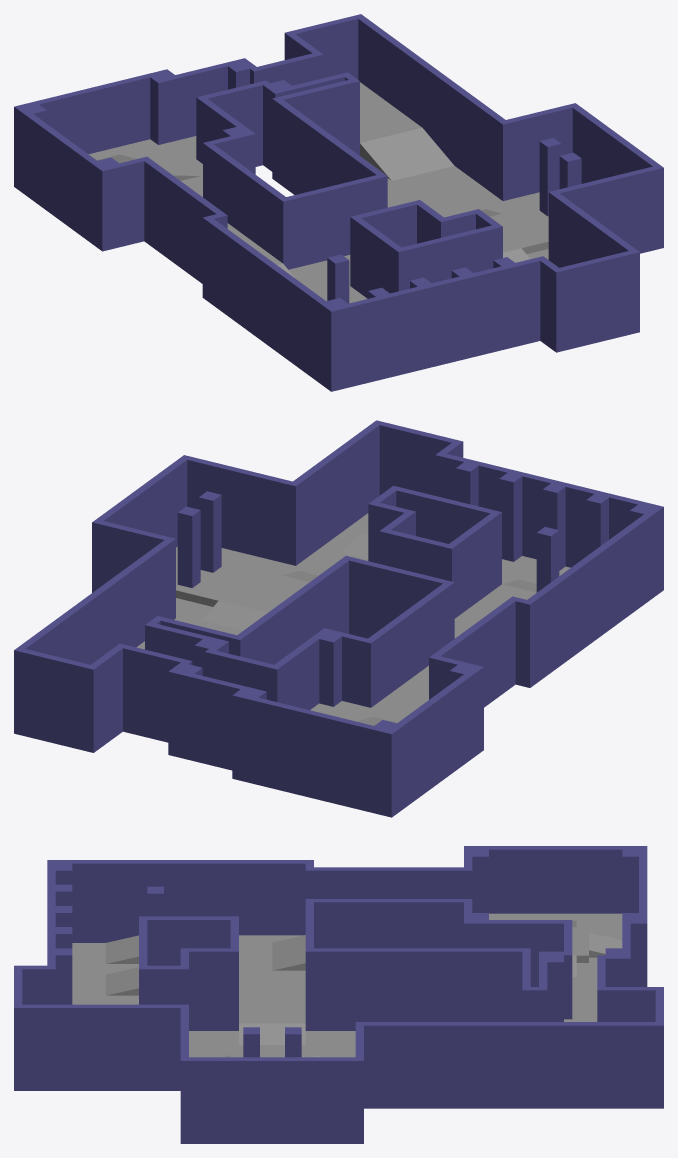
File: Arena01_LD.FBX
3 renders of one model, top to bottom at view 1: azimuth 30°, elevation 25°; view 2: azimuth 150°, elevation 25°; view 3: azimuth 270°, elevation 25°, orthographic. The views are drawn at different scales.
Visible parts, largest first — view 1: Wall_LD_Box (×36), Ground_LD_Box (×5), Ground_LD_Mesh; view 2: Wall_LD_Box (×39), Ground_LD_Box (×8), Ground_LD_Mesh; view 3: Wall_LD_Box (×34), Ground_LD_Box (×7), Ground_LD_Mesh (×5).
Boxes of the visible parts, <box> form: Wall_LD_Box (×36): <box>14,14,663,391</box>; Ground_LD_Box (×5): <box>89,82,548,303</box>; Ground_LD_Mesh: <box>360,128,454,180</box>; Wall_LD_Box (×39): <box>14,420,663,817</box>; Ground_LD_Box (×8): <box>136,513,570,722</box>; Ground_LD_Mesh: <box>202,601,267,630</box>; Wall_LD_Box (×34): <box>14,846,663,1143</box>; Ground_LD_Box (×7): <box>72,913,622,1057</box>; Ground_LD_Mesh (×5): <box>105,932,622,1044</box>.
Bounding box in the file's own units: 6100 × 1100 × 7800.
